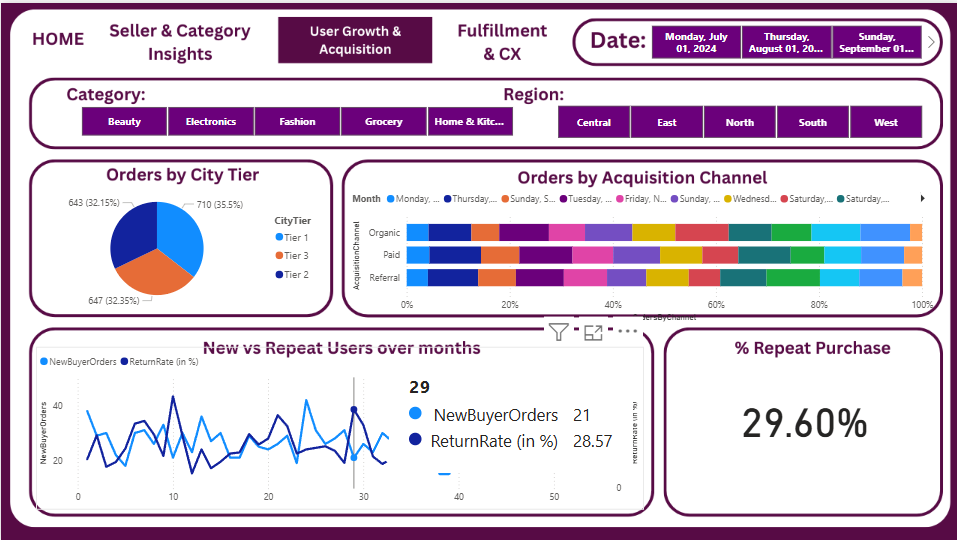

Layout of this report page (visuals, bound fields, positions):
{"tool":"powerbi","page":{"name":"User Growth & Acquisition","canvas":[1280,720],"ordinal":2},"visuals":[{"type":"pieChart","fields":{"Category":["buyers.CityTier"],"Y":["CountNonNull(orders.OrderID)"]},"box":[46.7,241.7,390,171.7],"z":0},{"type":"hundredPercentStackedBarChart","fields":{"Y":["blank.OrdersByChannel"],"Category":["buyers.AcquisitionChannel"],"Series":["DateTable.Month"]},"box":[463.3,241.7,785,188.3],"z":1000},{"type":"lineChart","fields":{"Category":["DateTable.Week"],"Y":["blank.NewBuyerOrders"],"Y2":["blank.ReturnRate (in %)"]},"box":[46.7,458.3,810,218.3],"z":2000},{"type":"card","fields":{"Values":["blank.RepeatPurchaseRate (%)"]},"box":[895,413.3,353.3,280],"z":3000},{"type":"slicer","fields":{"Values":["orders.Category"]},"box":[81.3,131.7,625,51.7],"z":3001},{"type":"slicer","fields":{"Values":["sellers.Region"]},"box":[716.3,130,535,56.7],"z":3002},{"type":"slicer","fields":{"Values":["DateTable.Month"]},"box":[841.3,23.3,410,55],"z":3003},{"type":"actionButton","box":[137.5,18.3,202.5,65.8],"z":3004},{"type":"actionButton","box":[30.7,23,100,48],"z":3005},{"type":"actionButton","box":[588.3,18.3,160,65.8],"z":3006}]}

Visuals, with their boxes in screenshot pixels (x1, y1, x2, y2), scaled from the page's 1280x720 canvas onto the 957x540 screenshot:
pieChart - buyers.CityTier x CountNonNull(orders.OrderID): rect(35, 181, 327, 310)
hundredPercentStackedBarChart - blank.OrdersByChannel x buyers.AcquisitionChannel: rect(346, 181, 933, 322)
lineChart - DateTable.Week x blank.NewBuyerOrders: rect(35, 344, 641, 507)
card - blank.RepeatPurchaseRate (%): rect(669, 310, 933, 520)
slicer - orders.Category: rect(61, 99, 528, 138)
slicer - sellers.Region: rect(536, 98, 936, 140)
slicer - DateTable.Month: rect(629, 17, 936, 59)
actionButton: rect(103, 14, 254, 63)
actionButton: rect(23, 17, 98, 53)
actionButton: rect(440, 14, 559, 63)
